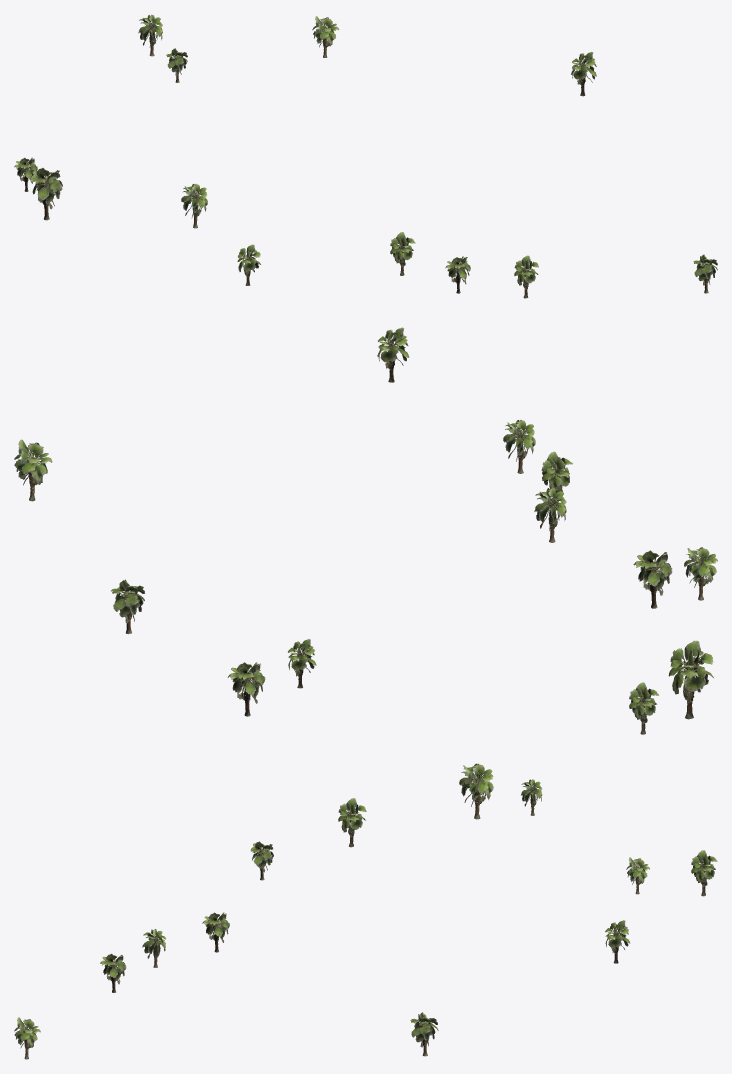
File: Palmera05.glb
3 renders of one model, top to bottom at view 1: azimuth 30°, elevation 25°; view 2: azimuth 150°, elevation 25°; view 3: azimuth 270°, elevation 25°, orthographic. The views are drawn at different scales.
Visible parts, largest first — view 1: temp_mesh.ply.819; view 2: temp_mesh.ply.819; view 3: temp_mesh.ply.819.
Part boxes in pixels (box(x1,y1,x2,y2)): temp_mesh.ply.819: box(14, 14, 717, 298); temp_mesh.ply.819: box(14, 327, 717, 734); temp_mesh.ply.819: box(14, 763, 717, 1059).
Bounding box in the file's own units: 103 × 16.95 × 114.
Materials: 1 (1 with a texture image).
